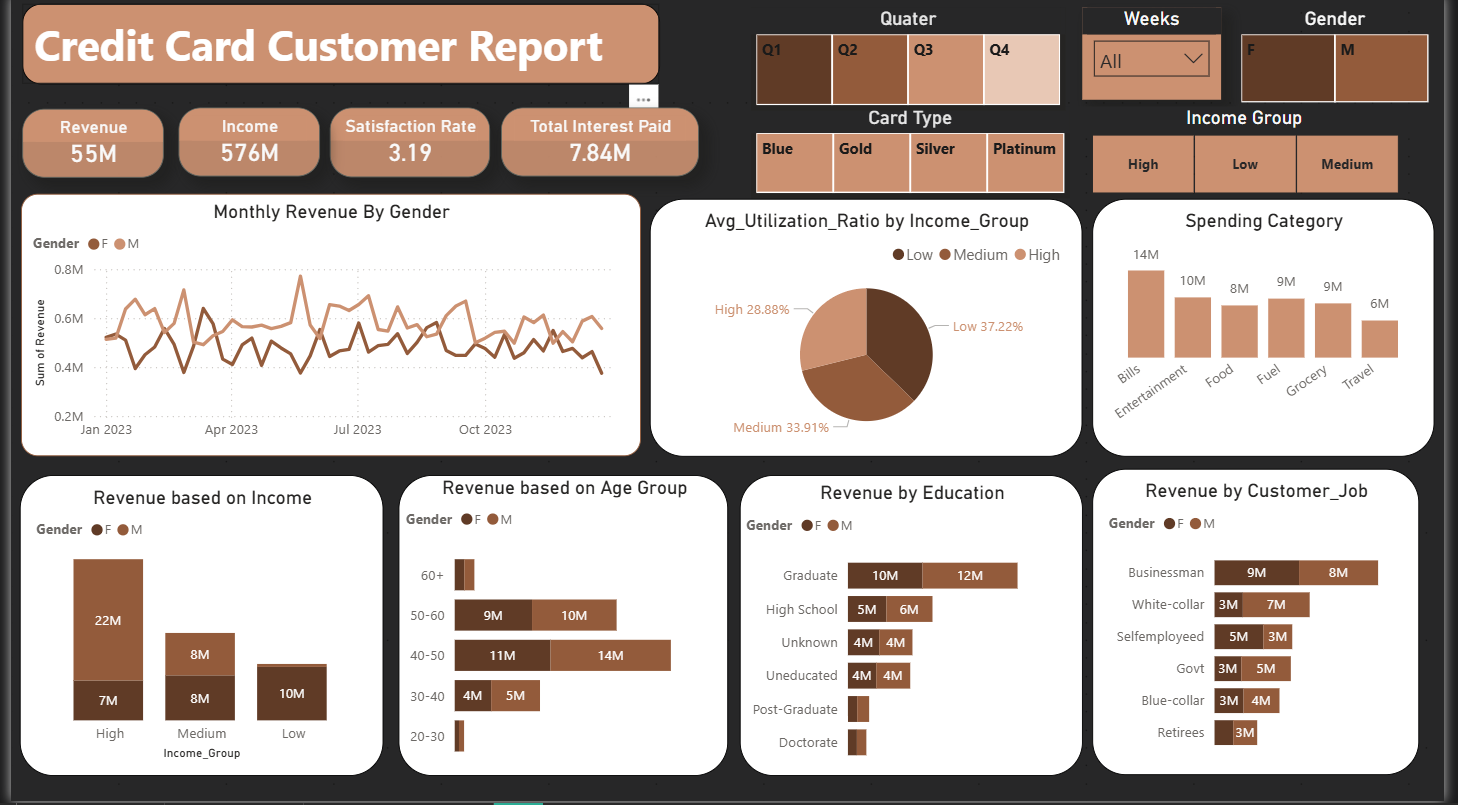

This screenshot's page, from the dashboard's own definition file:
{"tool":"powerbi","page":{"name":"CC Customer","canvas":[1280,720],"ordinal":1},"visuals":[{"type":"lineStackedColumnComboChart","title":"Spending Category","fields":{"Category":["ccdb cc_detail.Exp_Type","ccdb cc_detail.Week_Start_Date.Variation.Date Hierarchy.Year","ccdb cc_detail.Week_Start_Date.Variation.Date Hierarchy.Quarter","ccdb cc_detail.Week_Start_Date.Variation.Date Hierarchy.Month","ccdb cc_detail.Week_Start_Date.Variation.Date Hierarchy.Day"],"Y":["Sum(ccdb cc_detail.Revenue)"]},"box":[965.6,181.6,305.5,230.7],"z":0},{"type":"slicer","title":"Weeks","fields":{"Values":["ccdb cc_detail.Week_Num2"]},"box":[957.1,11,123.9,82.2],"z":1000},{"type":"treemap","title":"Gender","fields":{"Group":["ccdb cust_details.Gender"],"Values":["Avg(ccdb cust_details.Cust_Satisfaction_Score)"]},"box":[1094.5,11,176.7,89.6],"z":2000},{"type":"textbox","box":[9.8,7.4,569.3,72.4],"z":3000},{"type":"treemap","title":"Card Type","fields":{"Group":["ccdb cc_detail.Card_Category"],"Values":["Max(ccdb cust_details.Client_Num)"]},"box":[661.4,99.4,284.7,82.2],"z":4000},{"type":"slicer","title":"Income Group","fields":{"Values":["ccdb cust_details.Income_Group"]},"box":[946,99.4,311.7,78.5],"z":5000},{"type":"treemap","title":"Quater","fields":{"Group":["ccdb cc_detail.Qtr"],"Values":["Count(ccdb cc_detail.Week_Num)"]},"box":[661.4,11,281,92],"z":6000},{"type":"card","title":"Revenue","fields":{"Values":["Sum(ccdb cc_detail.Revenue)"]},"box":[10.3,101.1,126.4,61.4],"z":7000},{"type":"card","title":"Satisfaction Rate","fields":{"Values":["Avg(ccdb cust_details.Cust_Satisfaction_Score)"]},"box":[284.7,100.6,143.6,62.6],"z":8000},{"type":"card","title":"Total Interest Paid","fields":{"Values":["Sum(ccdb cc_detail.Interest_Earned)"]},"box":[438,100.6,176.7,61.4],"z":9000},{"type":"card","title":"Income","fields":{"Values":["Sum(ccdb cust_details.Income)"]},"box":[149.7,100.6,126.4,61.4],"z":10000},{"type":"lineChart","title":"Monthly Revenue By Gender","fields":{"Y":["Sum(ccdb cc_detail.Revenue)"],"Series":["ccdb cust_details.Gender"],"Category":["ccdb cc_detail.Week_Start_Date.Variation.Date Hierarchy.Year","ccdb cc_detail.Week_Start_Date.Variation.Date Hierarchy.Month","ccdb cc_detail.Week_Start_Date.Variation.Date Hierarchy.Day"]},"box":[8.6,177.9,553.4,234.4],"z":11000},{"type":"pieChart","title":" Avg_Utilization_Ratio by Income_Group","fields":{"Category":["ccdb cust_details.Income_Group"],"Y":["Sum(ccdb cc_detail.Avg_Utilization_Ratio)"]},"box":[570.6,181.6,386.5,230.7],"z":12000},{"type":"columnChart","title":"Revenue based on Income","fields":{"Category":["ccdb cust_details.Income_Group"],"Y":["Sum(ccdb cc_detail.Revenue)"],"Series":["ccdb cust_details.Gender"]},"box":[7.4,428.2,325.2,268.7],"z":13000},{"type":"barChart","title":"Revenue based on Age Group","fields":{"Y":["Sum(ccdb cc_detail.Revenue)"],"Category":["ccdb cust_details.Age_Group"],"Series":["ccdb cust_details.Gender"]},"box":[346,428.2,294.5,268.7],"z":14000},{"type":"barChart","title":"Revenue by Education","fields":{"Y":["Sum(ccdb cc_detail.Revenue)"],"Category":["ccdb cust_details.Education_Level"],"Series":["ccdb cust_details.Gender"]},"box":[650.3,428.2,306.8,268.7],"z":15000},{"type":"barChart","title":"Revenue by Customer_Job","fields":{"Category":["ccdb cust_details.Customer_Job"],"Y":["Sum(ccdb cc_detail.Revenue)"],"Series":["ccdb cust_details.Gender"]},"box":[965.6,423.3,292,273.6],"z":16000}]}

Visuals, with their boxes in screenshot pixels (x1, y1, x2, y2), scaled from the page's 1280x720 canvas onto the 1458x805 screenshot:
"Spending Category" lineStackedColumnComboChart: 1100/203/1448/461
"Weeks" slicer: 1090/12/1231/104
"Gender" treemap: 1247/12/1448/112
textbox: 11/8/660/89
"Card Type" treemap: 753/111/1078/203
"Income Group" slicer: 1078/111/1433/199
"Quater" treemap: 753/12/1073/115
"Revenue" card: 12/113/156/182
"Satisfaction Rate" card: 324/112/488/182
"Total Interest Paid" card: 499/112/700/181
"Income" card: 171/112/314/181
"Monthly Revenue By Gender" lineChart: 10/199/640/461
" Avg_Utilization_Ratio by Income_Group" pieChart: 650/203/1090/461
"Revenue based on Income" columnChart: 8/479/379/779
"Revenue based on Age Group" barChart: 394/479/730/779
"Revenue by Education" barChart: 741/479/1090/779
"Revenue by Customer_Job" barChart: 1100/473/1432/779
